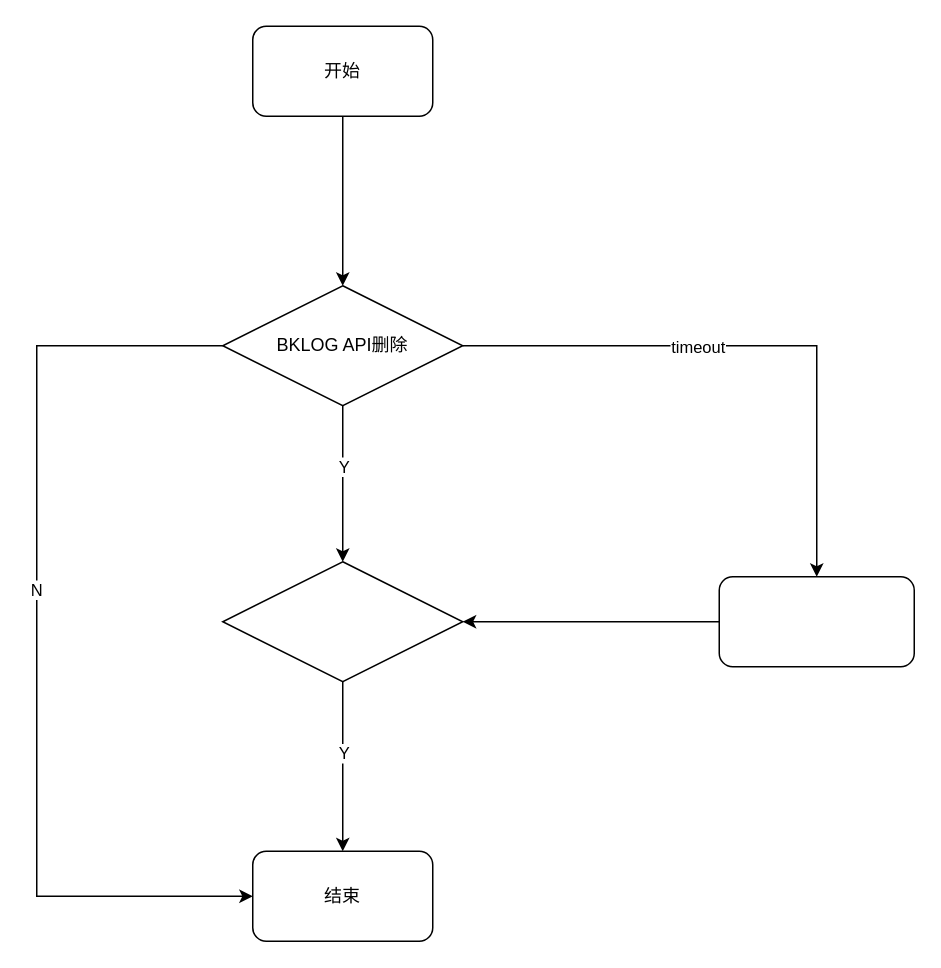
The diagram is 941 pixels wide and 968 high, and some of its shapes have lost their labels. Each missing label, with the box of its shape:
KLC 删除: (221, 560, 463, 682)
生成check任务（delete）: (718, 575, 914, 667)
